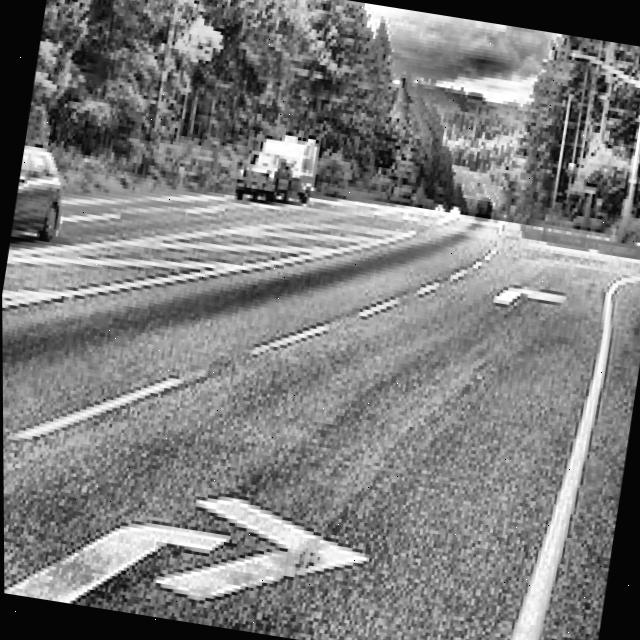light_vehicle: (7, 142, 72, 264), (232, 145, 293, 214)
